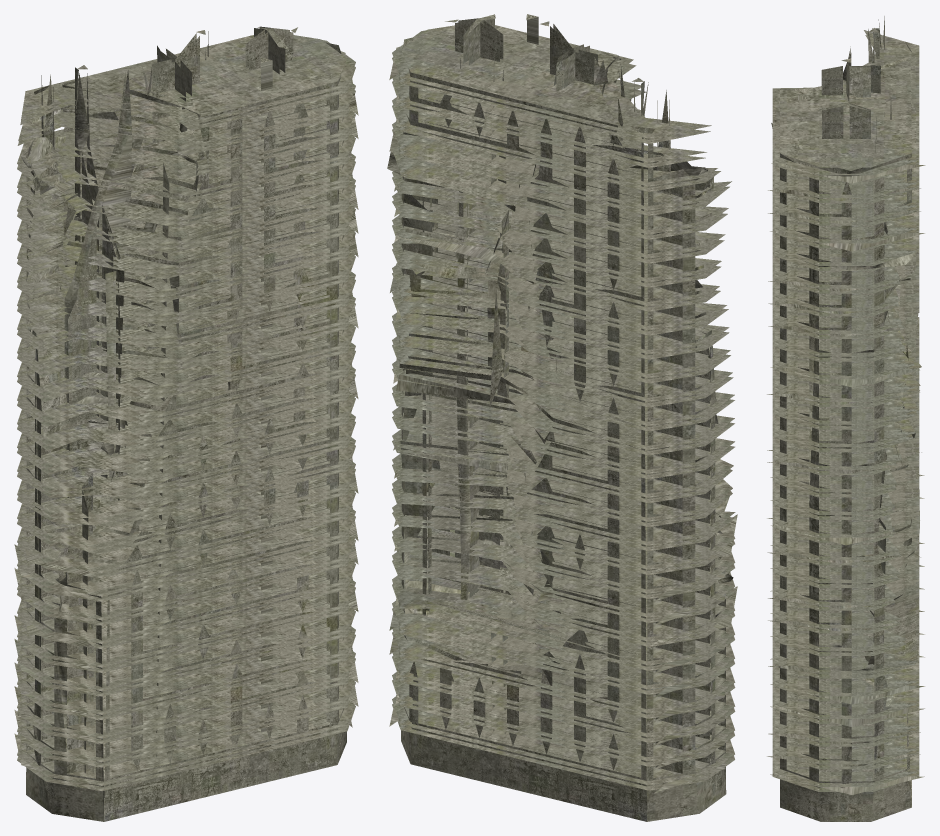
The model's file is yikinti_f.gltf.
3 renders of one model, left to right at view 1: azimuth 30°, elevation 25°; view 2: azimuth 150°, elevation 25°; view 3: azimuth 270°, elevation 25°, orthographic. The views are drawn at different scales.
Parts seen in each view (by area): view 1: yikinti_f; view 2: yikinti_f; view 3: yikinti_f.
Boxes of the visible parts, x1,y1,x2,y2 form: yikinti_f: (14, 26, 358, 821); yikinti_f: (387, 14, 737, 821); yikinti_f: (767, 16, 925, 821).
Size of what is drawn, in the model's own units: 27.51 by 58.69 by 12.12.
1 material, 1 textured.
